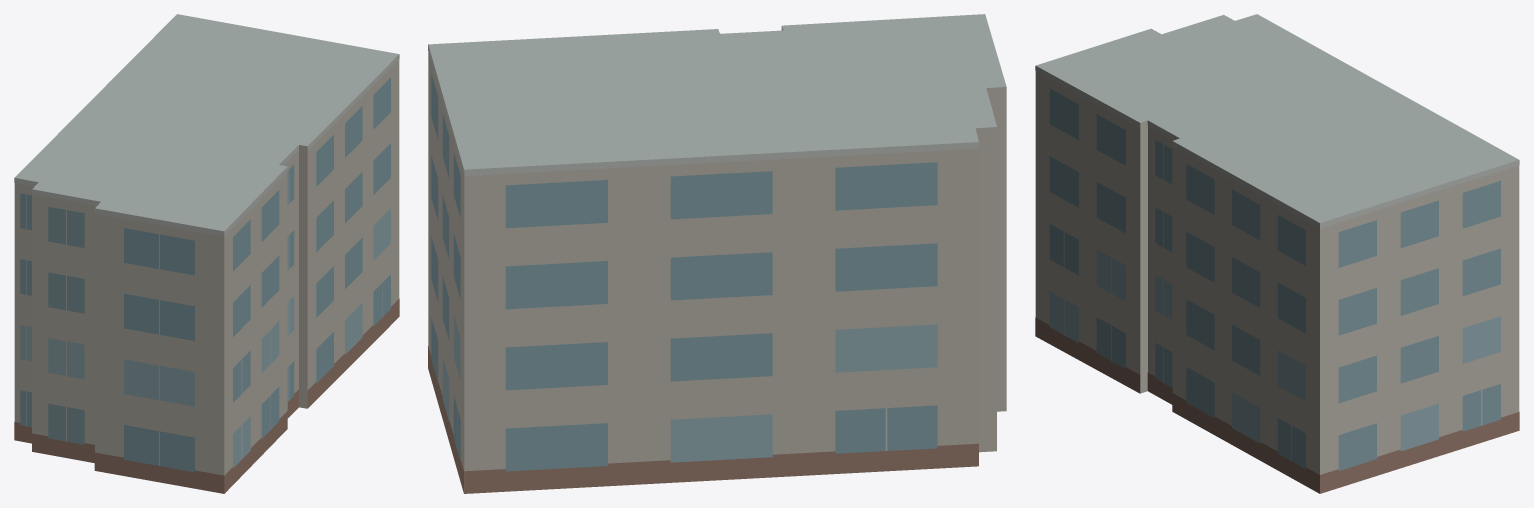
Rendered from survey-upis-32977212.glb.
The picture shows the model from 3 angles, left to right: view 1: azimuth 30°, elevation 25°; view 2: azimuth 150°, elevation 25°; view 3: azimuth 270°, elevation 25°; orthographic projection. The views are drawn at different scales.
Parts seen in each view (by area): view 1: survey-upis-32977212.tmp; view 2: survey-upis-32977212.tmp; view 3: survey-upis-32977212.tmp.
Part boxes in pixels (<box>): survey-upis-32977212.tmp: <box>14,14,399,493</box>; survey-upis-32977212.tmp: <box>428,14,1006,493</box>; survey-upis-32977212.tmp: <box>1035,14,1519,493</box>.
Bounding box in the file's own units: 20.21 × 12.2 × 19.77.
